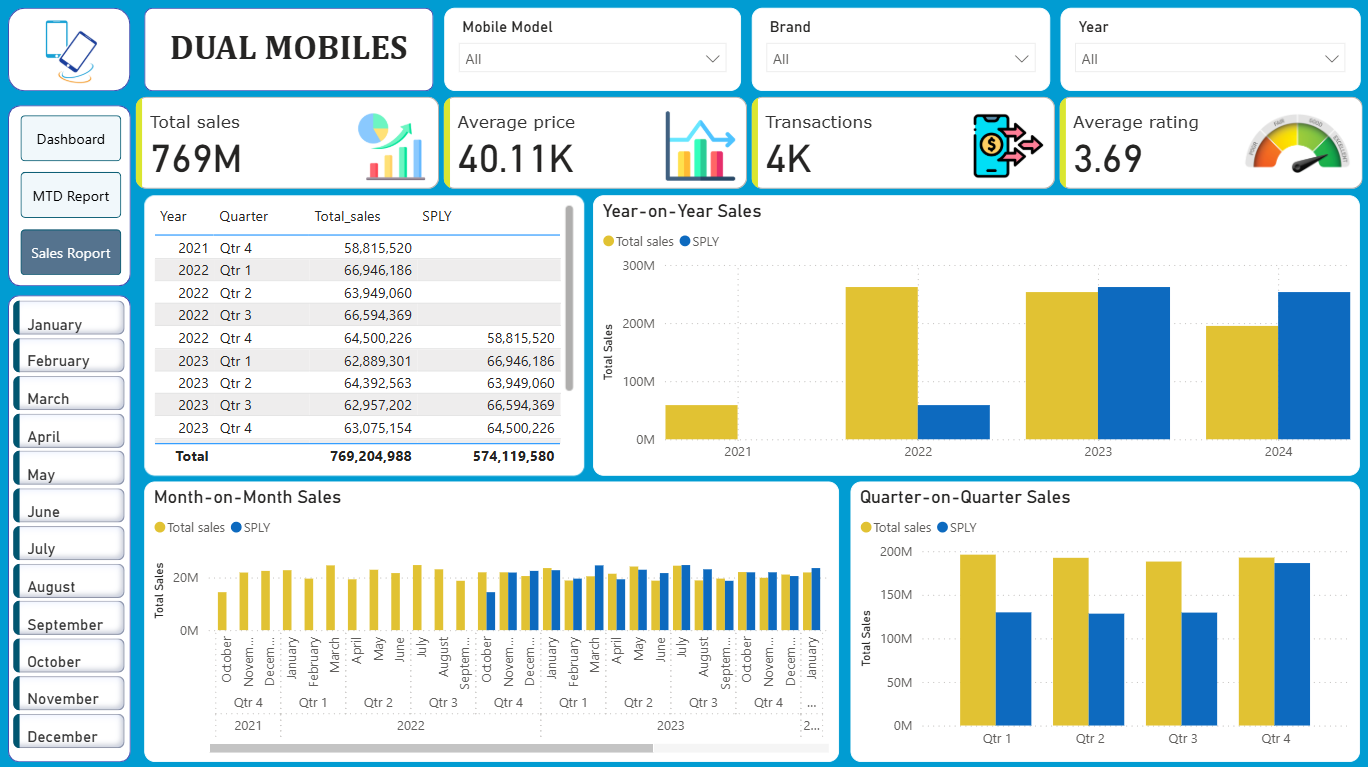

The dashboard page shown, as its layout file describes it:
{"tool":"powerbi","page":{"name":"Sales Roport","canvas":[1280,720],"ordinal":2},"visuals":[{"type":"shape","box":[9.7,8.3,114.1,77.9],"z":0},{"type":"image","box":[0,0,136.3,98.8],"z":1000},{"type":"shape","box":[9.7,98.9,114.6,168.9],"z":2000},{"type":"shape","box":[9.7,276.3,114.6,435.5],"z":3000},{"type":"advancedSlicerVisual","fields":{"Values":["calender.Date.Variation.Date Hierarchy.Month"]},"box":[9.7,276.3,114.6,435.5],"z":4000},{"type":"cardVisual","fields":{"Data":["sales_data.Total_sales","sales_data.Avg_price","sales_data.Transactions","sales_data.Avg_rating"]},"box":[123.8,86.3,1156.2,96],"z":5000},{"type":"slicer","fields":{"Values":["sales_data.Mobile Model"]},"box":[416,8.3,276.9,77.9],"z":6000},{"type":"slicer","fields":{"Values":["sales_data.Brand"]},"box":[702.6,8.3,278.3,77.9],"z":7000},{"type":"slicer","fields":{"Values":["calender.Date.Variation.Date Hierarchy.Year"]},"box":[990.6,8.3,279.7,77.9],"z":8000},{"type":"shape","box":[136.3,8.3,269.9,77.9],"z":9000},{"type":"textbox","box":[147.2,20.5,248.5,49.5],"z":10000},{"type":"tableEx","fields":{"Values":["calender.Date.Variation.Date Hierarchy.Year","calender.Date.Variation.Date Hierarchy.Quarter","sales_data.Total_sales","sales_data.SPLY"]},"box":[136.3,183.4,410.2,261.8],"z":10001},{"type":"clusteredColumnChart","title":"Year-on-Year Sales","fields":{"Category":["calender.Date.Variation.Date Hierarchy.Year","calender.Date.Variation.Date Hierarchy.Quarter"],"Y":["sales_data.Total_sales","sales_data.SPLY"]},"box":[555,183.4,715.4,261.8],"z":10002},{"type":"clusteredColumnChart","title":"Quarter-on-Quarter Sales","fields":{"Category":["calender.Date.Variation.Date Hierarchy.Year","calender.Date.Variation.Date Hierarchy.Quarter"],"Y":["sales_data.Total_sales","sales_data.SPLY"]},"box":[795,450,475.3,261.8],"z":10003},{"type":"clusteredColumnChart","title":"Month-on-Month Sales","fields":{"Y":["sales_data.Total_sales","sales_data.SPLY"],"Category":["calender.Date.Variation.Date Hierarchy.Year","calender.Date.Variation.Date Hierarchy.Quarter","calender.Date.Variation.Date Hierarchy.Month","calender.Date.Variation.Date Hierarchy.Day"]},"box":[136.3,450,647.9,261.8],"z":10004},{"type":"pageNavigator","box":[20.5,108.6,94.1,149.6],"z":10005}]}

Visuals, with their boxes in screenshot pixels (x1, y1, x2, y2), scaled from the page's 1280x720 canvas onto the 1368x767 screenshot:
shape: locate(10, 9, 132, 92)
image: locate(0, 0, 146, 105)
shape: locate(10, 105, 133, 285)
shape: locate(10, 294, 133, 758)
advancedSlicerVisual - calender.Date.Variation.Date Hierarchy.Month: locate(10, 294, 133, 758)
cardVisual - sales_data.Total_sales x sales_data.Avg_price: locate(132, 92, 1367, 194)
slicer - sales_data.Mobile Model: locate(445, 9, 741, 92)
slicer - sales_data.Brand: locate(751, 9, 1048, 92)
slicer - calender.Date.Variation.Date Hierarchy.Year: locate(1059, 9, 1358, 92)
shape: locate(146, 9, 434, 92)
textbox: locate(157, 22, 423, 75)
tableEx - calender.Date.Variation.Date Hierarchy.Year x calender.Date.Variation.Date Hierarchy.Quarter: locate(146, 195, 584, 474)
"Year-on-Year Sales" clusteredColumnChart: locate(593, 195, 1358, 474)
"Quarter-on-Quarter Sales" clusteredColumnChart: locate(850, 479, 1358, 758)
"Month-on-Month Sales" clusteredColumnChart: locate(146, 479, 838, 758)
pageNavigator: locate(22, 116, 122, 275)
